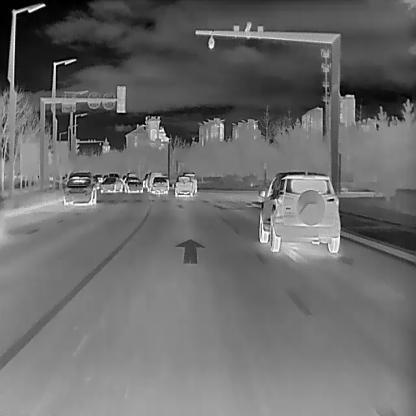car: (258, 170, 340, 252), (63, 171, 98, 207), (174, 175, 193, 196), (100, 176, 123, 192), (182, 172, 196, 194), (151, 176, 168, 194), (147, 171, 161, 192), (125, 177, 142, 192)
